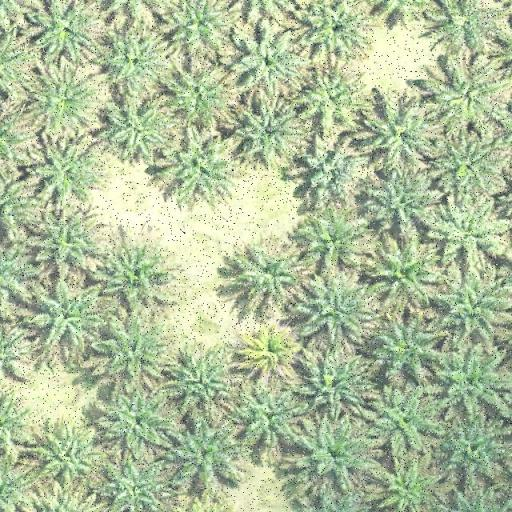Ganoderma: (252, 334, 288, 367)
